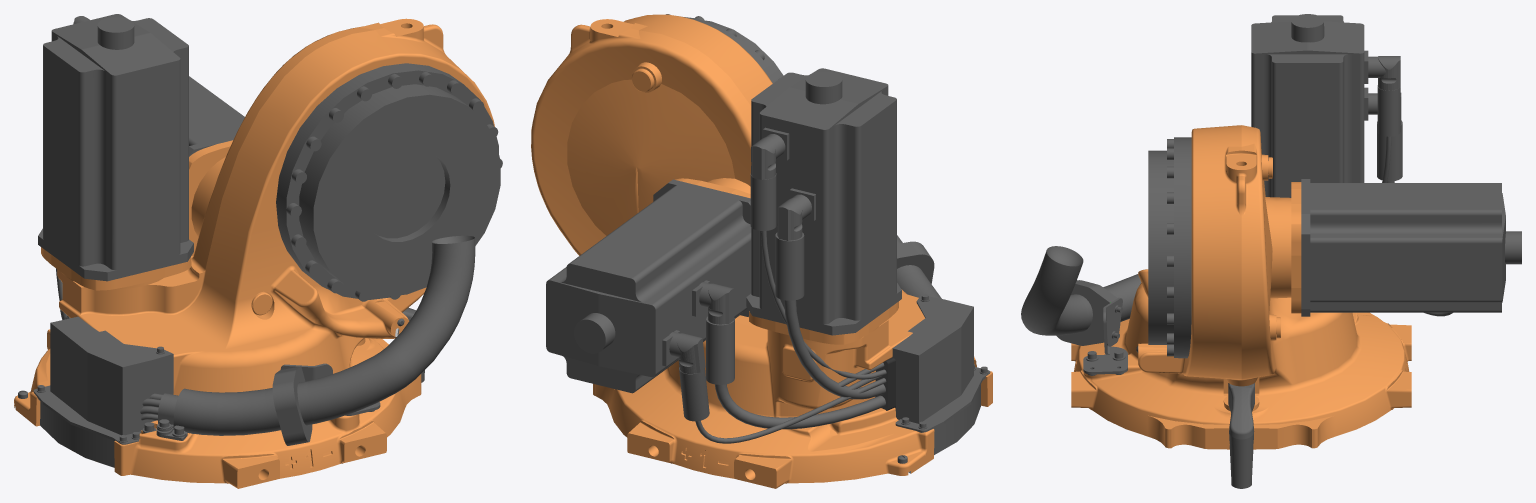
3 views of the same model, side by side, from view 1: azimuth 30°, elevation 25°; view 2: azimuth 150°, elevation 25°; view 3: azimuth 270°, elevation 25° (orthographic). The views are drawn at different scales.
Parts seen in each view (by area): view 1: link_1; view 2: link_1; view 3: link_1.
Boxes of the visible parts, x1,y1,x2,y2 form: link_1: (14,14,502,488); link_1: (531,14,992,488); link_1: (1021,14,1521,488).
Size of the model in its own units: 0.484 by 0.5623 by 0.4337.
